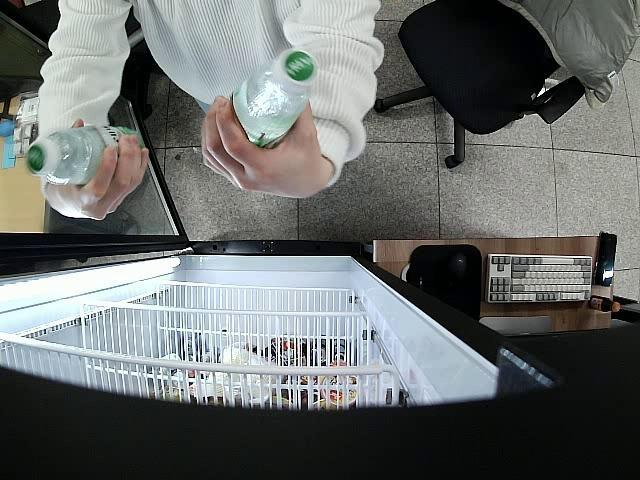18_trevi: (232, 50, 318, 148), (25, 125, 144, 185)
